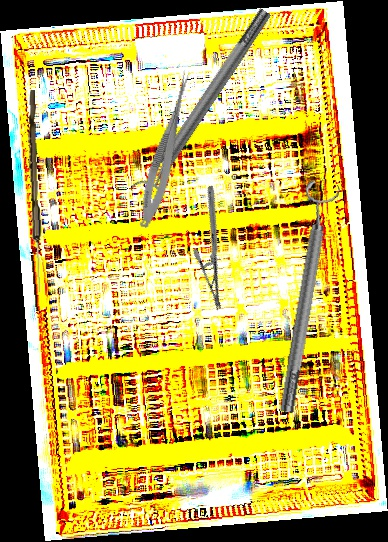Fixation Ring: (127, 2, 283, 209), (266, 180, 344, 415)
Micro Scissor: (134, 67, 196, 231)
Needle Holder: (157, 184, 272, 312)
Surgical Spoon: (24, 89, 46, 293)
